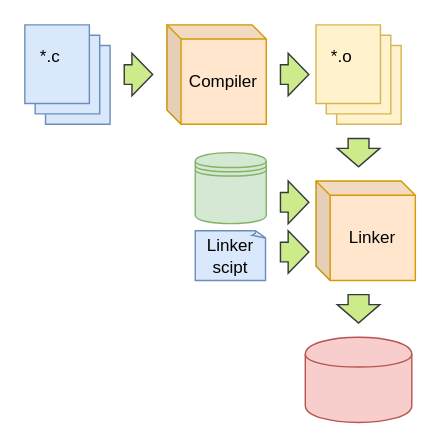
Image size: 440x447. Some labels were removed from this diagram. The box of each missing label's shape, as (x1, y1, x2, y2) in pixels:
ELF executable: (304, 336, 412, 422)
system libraries: (194, 151, 266, 224)
